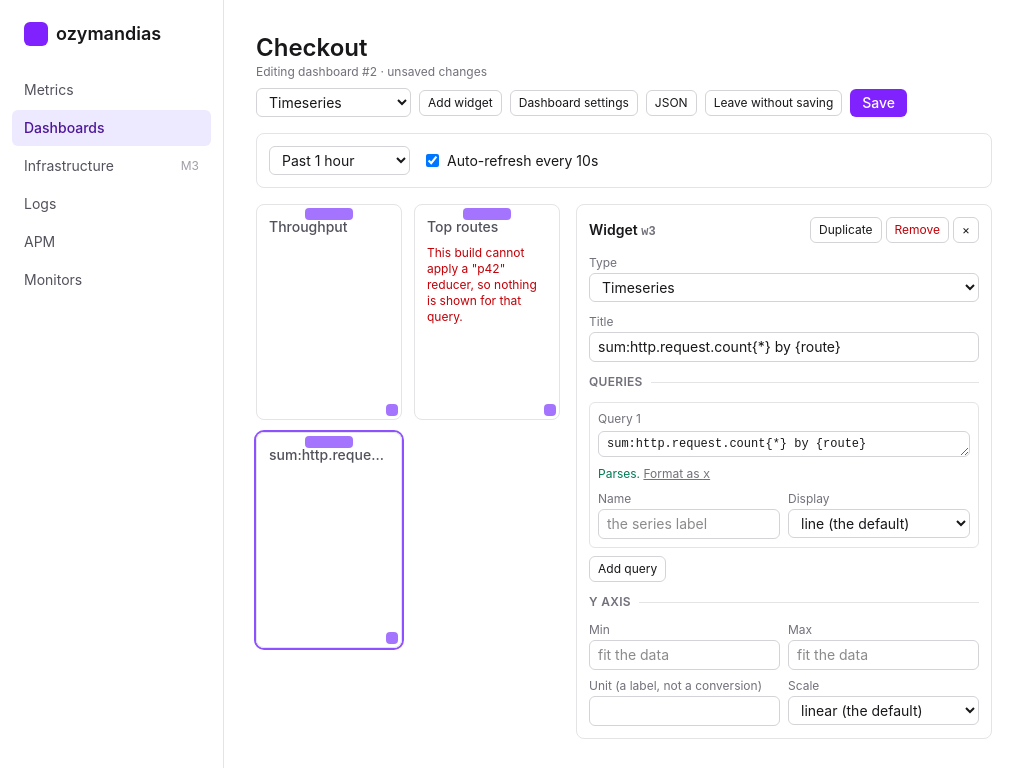
Test: ?add=: a query from the Metrics Explorer › opens a stored dashboard with the widget added, selected and unsaved, then saves it
Expected: the heading "Checkout" is shown, [256, 33, 368, 62]
Expected: the text "Editing dashboard #2 · unsaved changes" is shown, [256, 64, 487, 80]
Click the button "Save": point(879, 102) [850, 88, 907, 116]
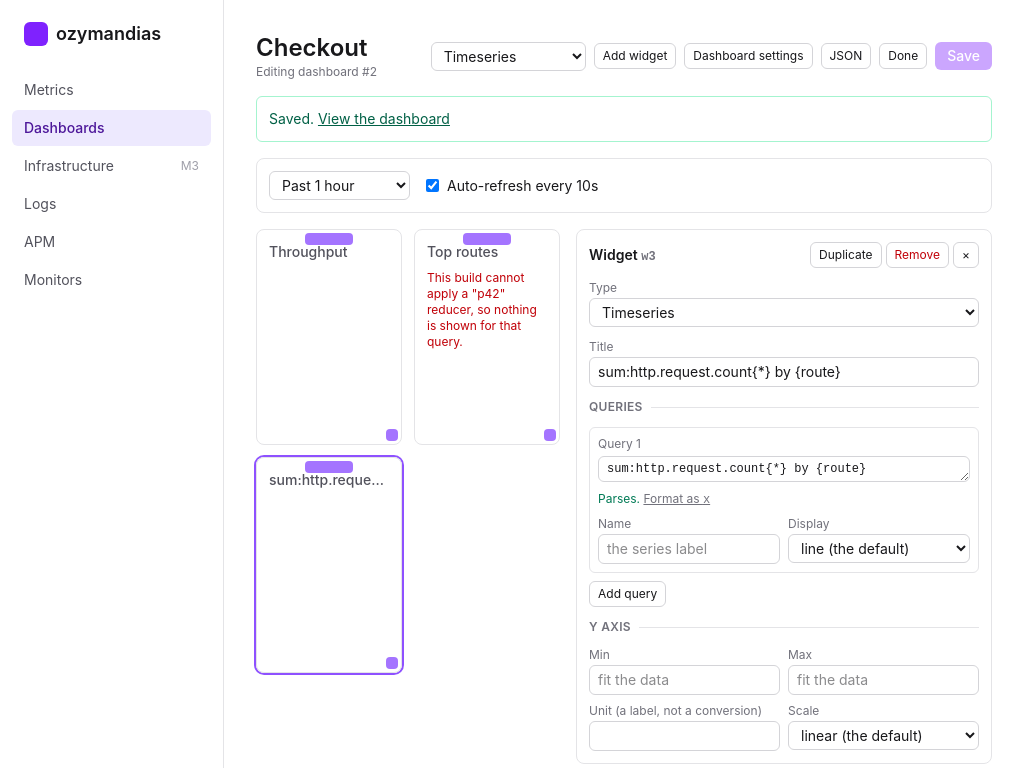
Expected: the text "Saved." is shown, [269, 110, 314, 127]
